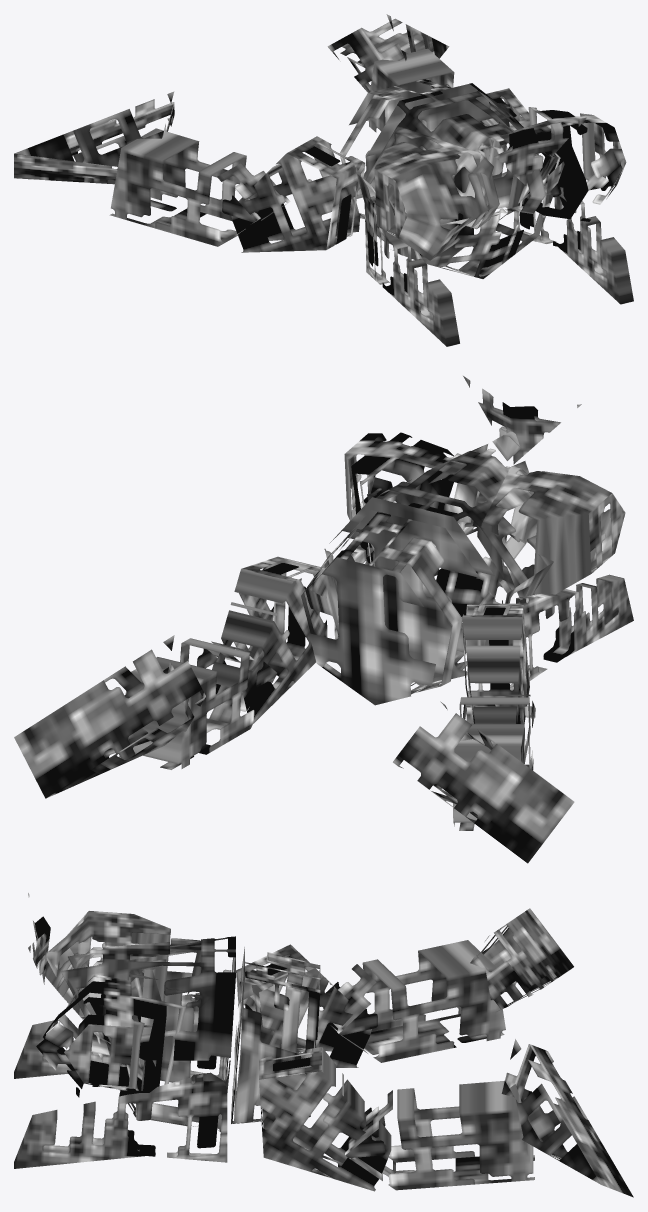
The model's file is jaegermech_wreck_forward.glb.
3 renders of one model, top to bottom at view 1: azimuth 30°, elevation 25°; view 2: azimuth 150°, elevation 25°; view 3: azimuth 270°, elevation 25°, orthographic. The views are drawn at different scales.
Visible parts, largest first — view 1: jm_rlleg01; view 2: jm_rlleg01; view 3: jm_rlleg01.
Boxes of the visible parts, left/top/right/bottom form: jm_rlleg01: left=14, top=14, right=633, bottom=346; jm_rlleg01: left=14, top=376, right=633, bottom=863; jm_rlleg01: left=14, top=893, right=633, bottom=1197.
Size of the model in its own units: 9.39 by 3.86 by 10.12.
Materials: 1 (1 with a texture image).
